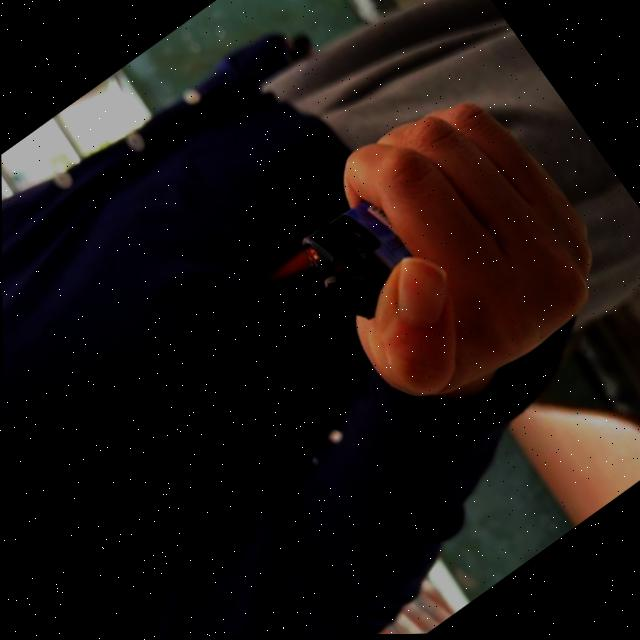Fire: (257, 243, 322, 299)
